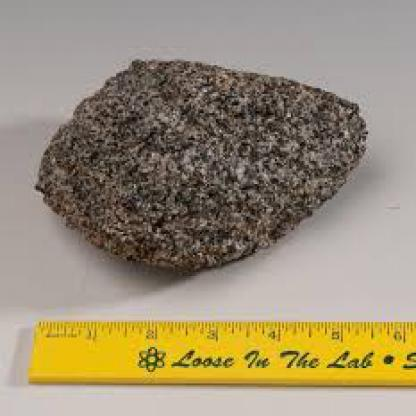Igneous_Diorite: (27, 40, 380, 274)
